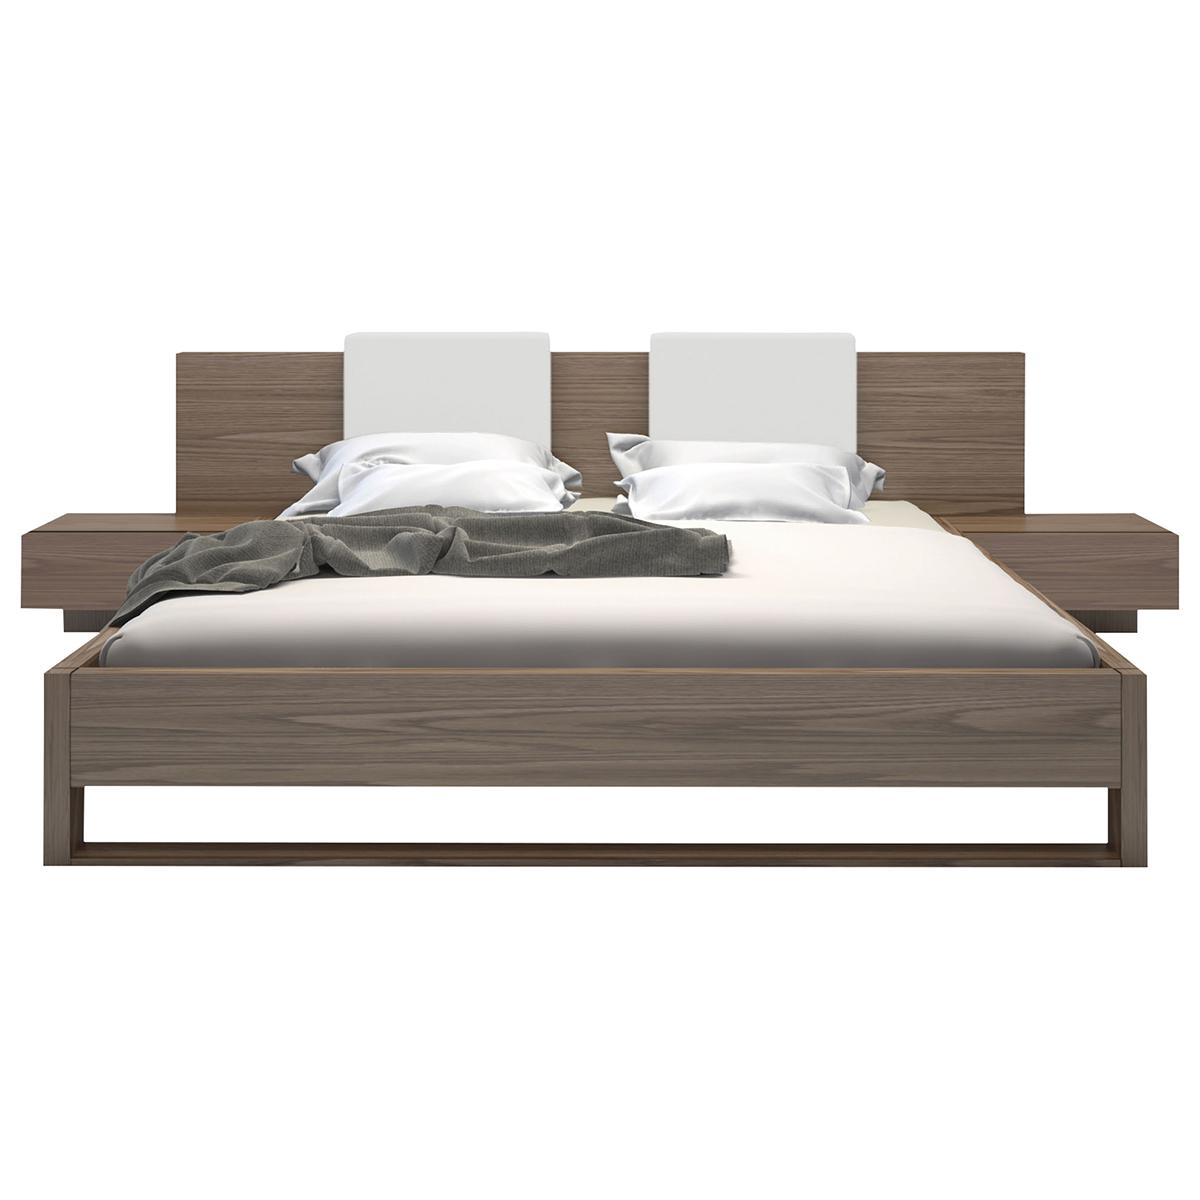bed: (25, 341, 1189, 920)
